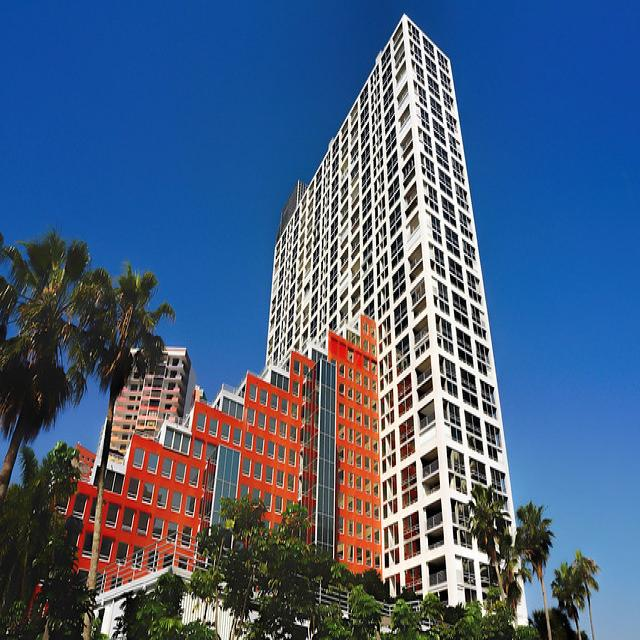Normal_building: (248, 11, 534, 631)
